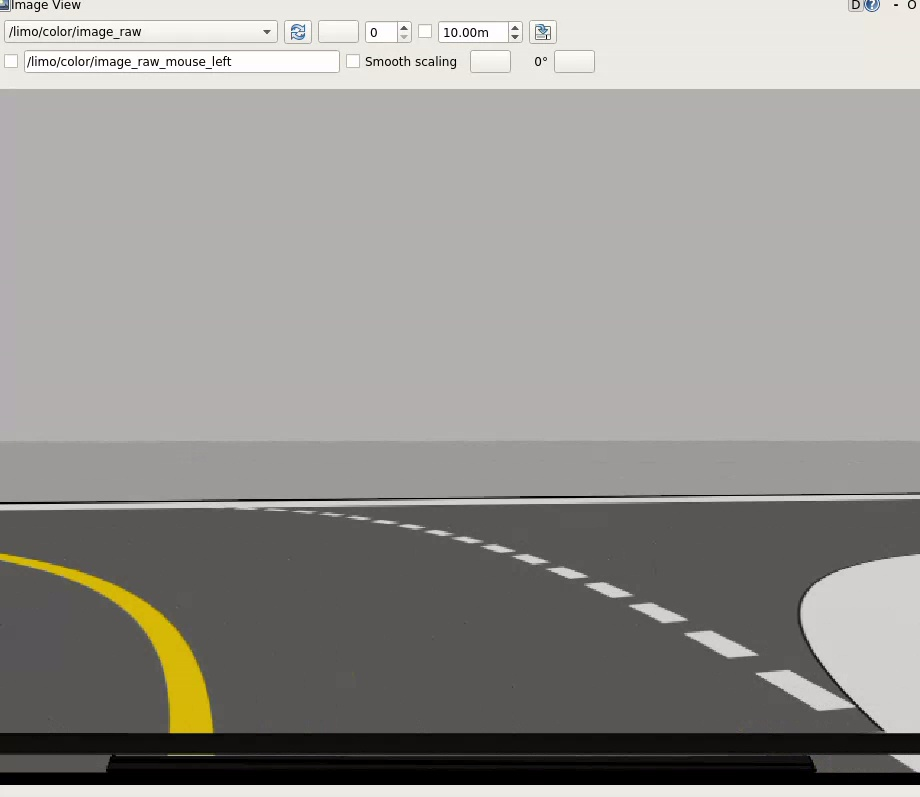Dashed: (757, 670, 853, 710), (687, 631, 757, 658), (630, 603, 685, 622), (585, 582, 631, 596), (893, 755, 919, 772), (549, 568, 586, 579), (515, 554, 547, 564), (485, 544, 512, 552), (454, 536, 481, 542), (426, 529, 450, 535), (234, 506, 258, 510), (402, 524, 423, 528), (349, 515, 368, 519), (324, 512, 341, 516), (375, 520, 396, 523), (295, 510, 312, 513), (265, 508, 285, 510)
Solid: (0, 553, 212, 732)
Street: (0, 500, 919, 732)
